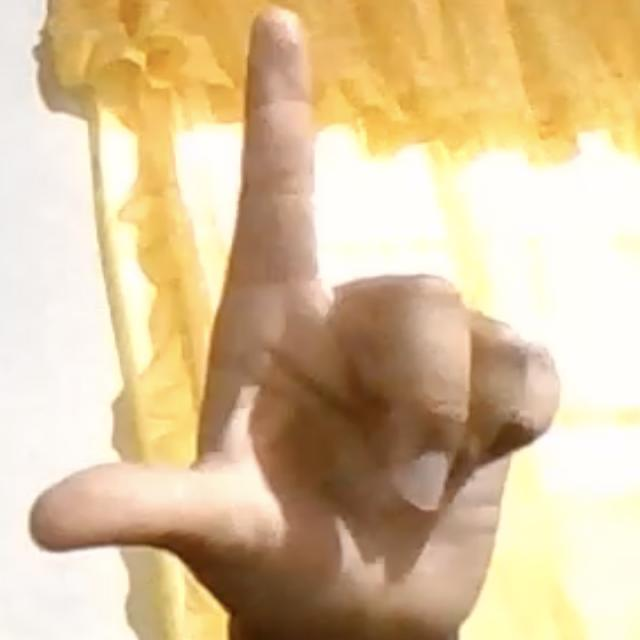LL: (25, 4, 586, 628)
